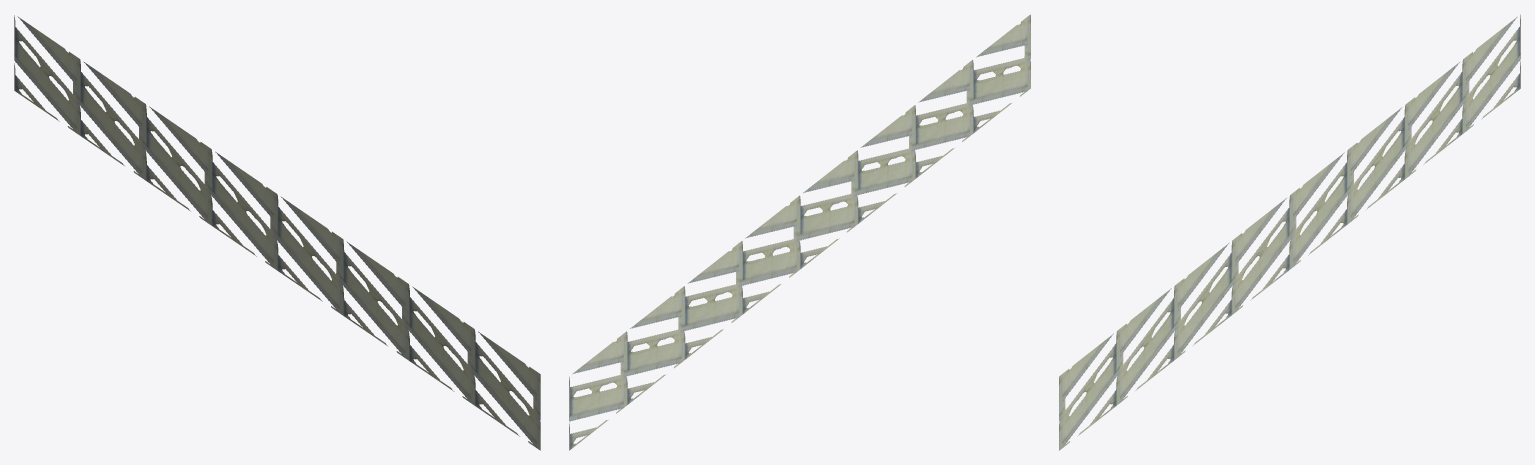
The model's file is 人民英雄纪念碑34.dae.
3 renders of one model, left to right at view 1: azimuth 30°, elevation 25°; view 2: azimuth 150°, elevation 25°; view 3: azimuth 330°, elevation 25°, orthographic. The views are drawn at different scales.
Visible parts, largest first — view 1: SketchUp; view 2: SketchUp; view 3: SketchUp.
Boxes of the visible parts, x1,y1,x2,y2 form: SketchUp: [14, 15, 540, 450]; SketchUp: [569, 14, 1030, 450]; SketchUp: [1059, 14, 1520, 450].
Bounding box in the file's own units: 19.36 × 652 × 55.12.
